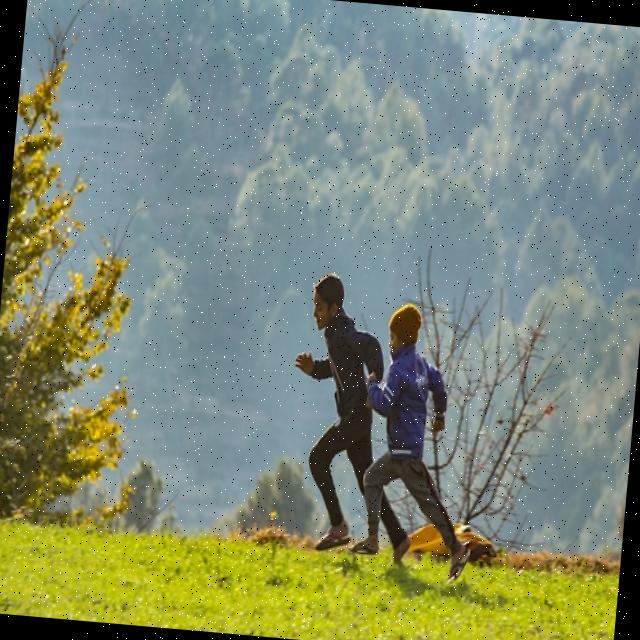Person: (276, 270, 432, 565), (348, 299, 491, 586)
